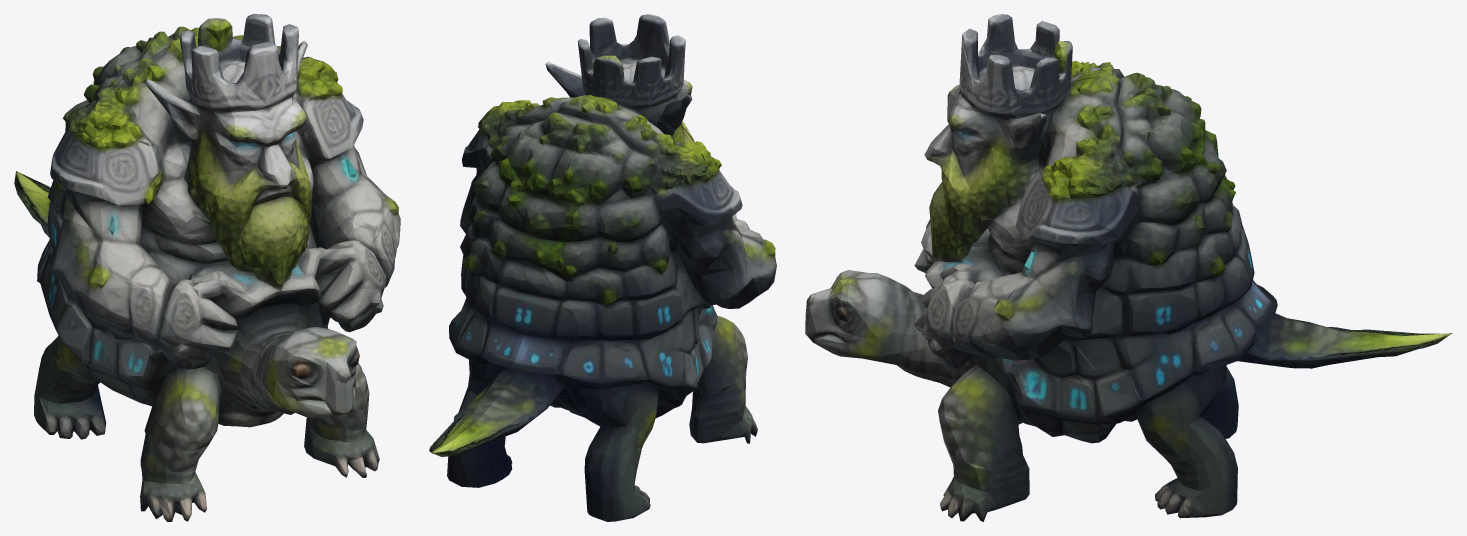
The model's file is shellmund__trollwarden.glb.
3 views of the same model, side by side, from view 1: azimuth 30°, elevation 25°; view 2: azimuth 150°, elevation 25°; view 3: azimuth 270°, elevation 25° (orthographic). The views are drawn at different scales.
Visible parts, largest first — view 1: world; view 2: world; view 3: world.
Boxes of the visible parts, left/top/right/bottom form: world: left=14, top=14, right=400, bottom=521; world: left=429, top=14, right=776, bottom=521; world: left=805, top=14, right=1452, bottom=521.
Size of the model in its own units: 0.559 by 0.7445 by 0.9997.
Materials: 1 (1 with a texture image).
